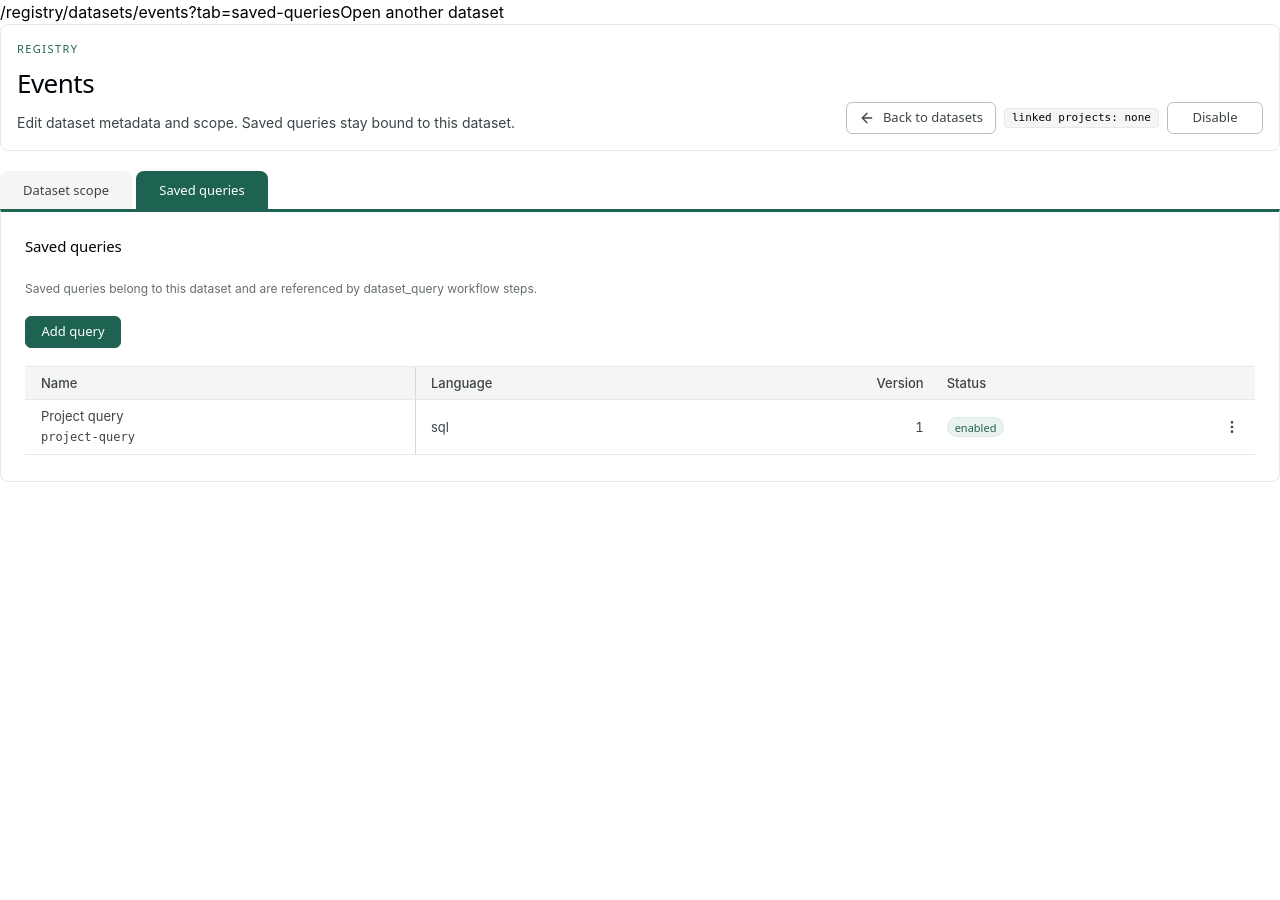
Test: RegistryDatasetsDetailPage saved queries › does not run a project-scoped query when the assigned project catalog is failed
expect the text "Project query" is shown: met, box [41,408,124,424]
Step 1. Click the button named "Actions for Project query" → (1232, 427), box [1216,411,1248,443]
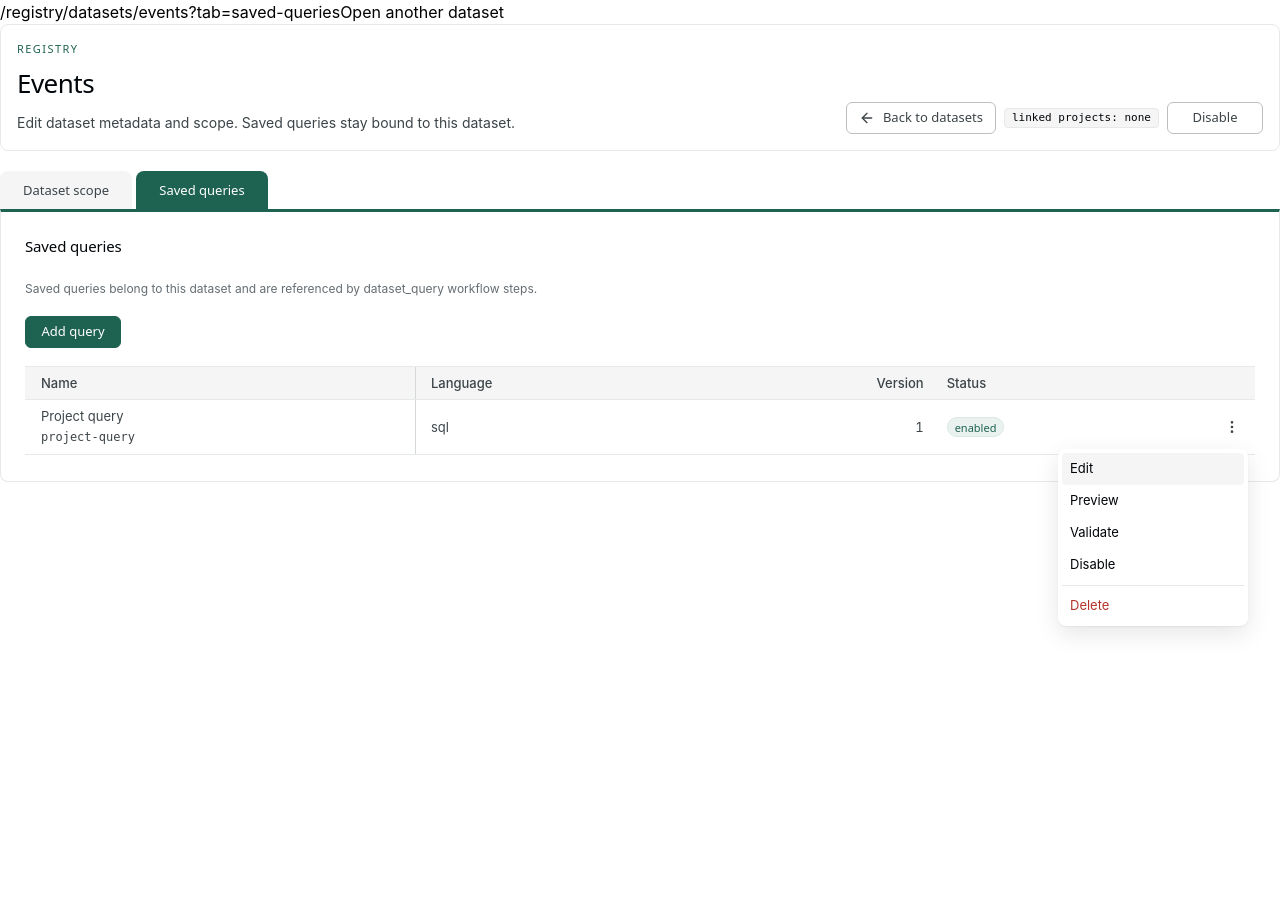
Step 2. Click the menu item "Preview" → (1153, 501), box [1062,485,1244,517]
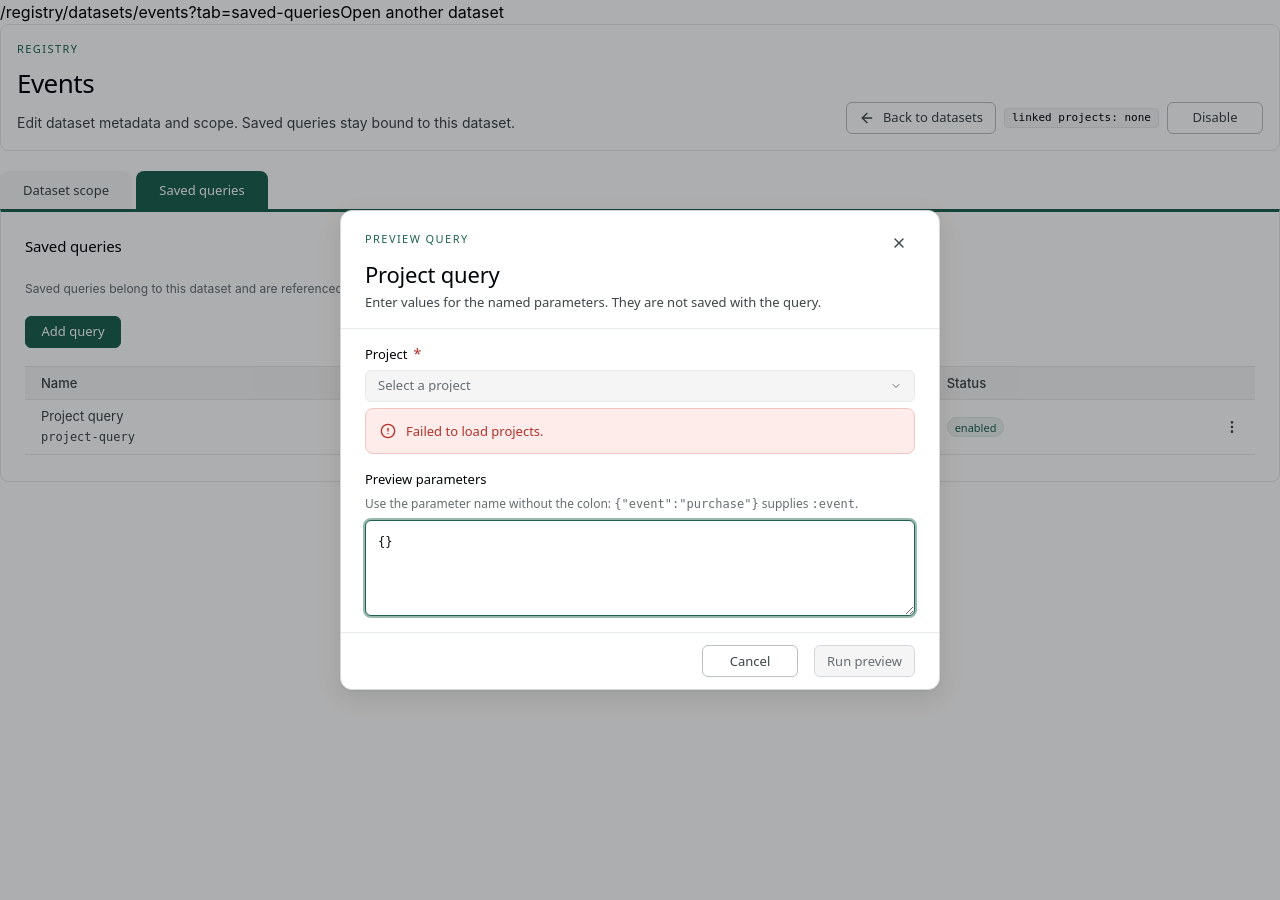
expect the dropdown labelled "project" is disabled: met, box [365,370,915,402]
expect the button "Run preview" is disabled: met, box [814,645,915,677]
expect the text "Failed to load projects." is shown: met, box [406,422,544,440]
